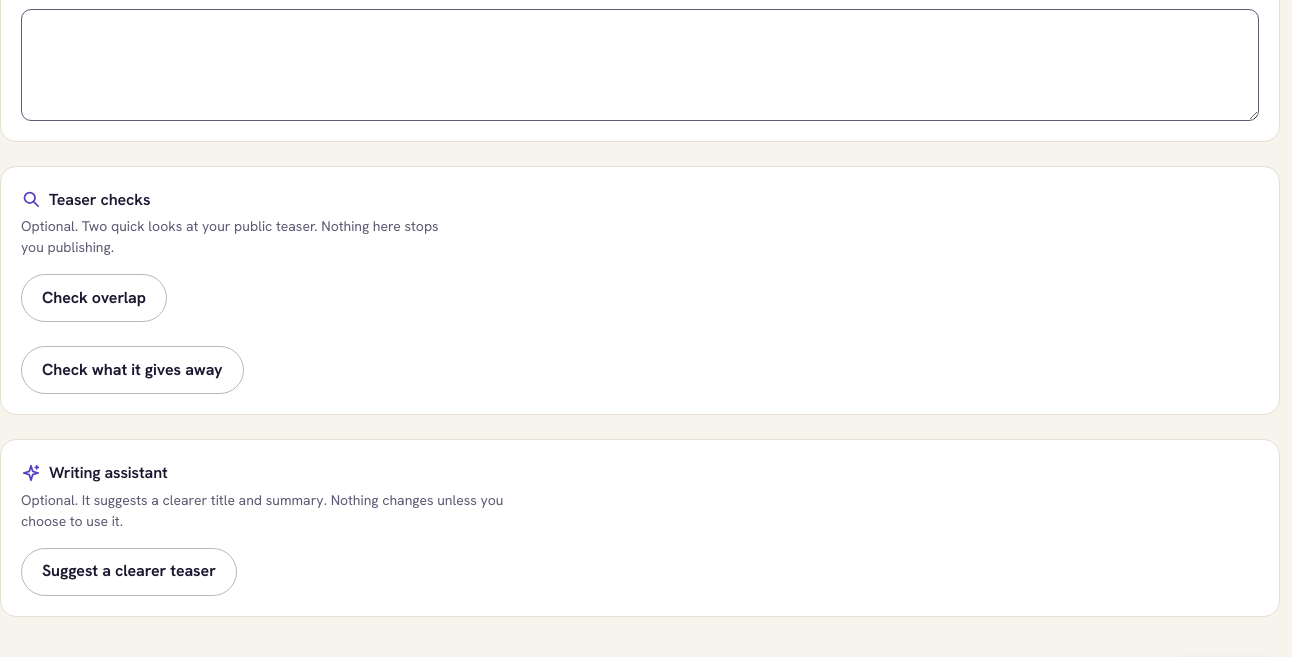
Test case: check what it gives away › says nothing gives away how it works
(page scrolled)
What coordinates should you click on to do the following:
click the button "Check what it gives away"
I would click on:
 (132, 370)
Its box is [21,346,244,394].
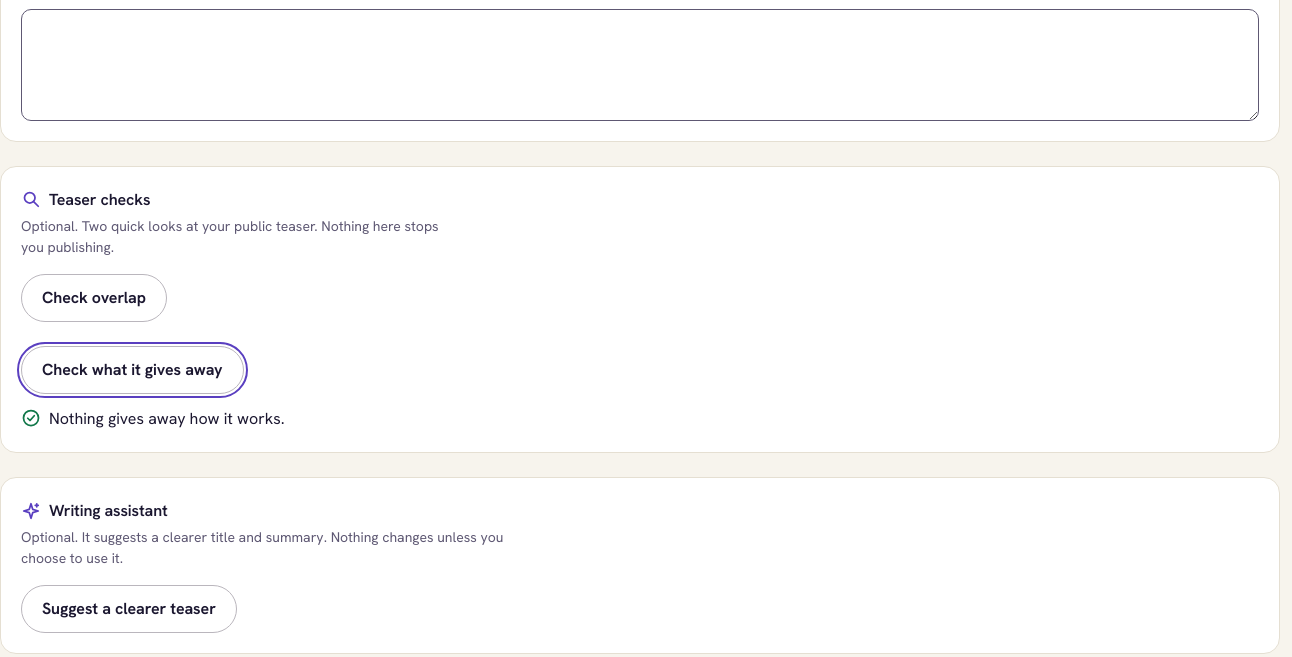
Expected: the message "Nothing gives away how it works." is shown, [21,406,285,432]
